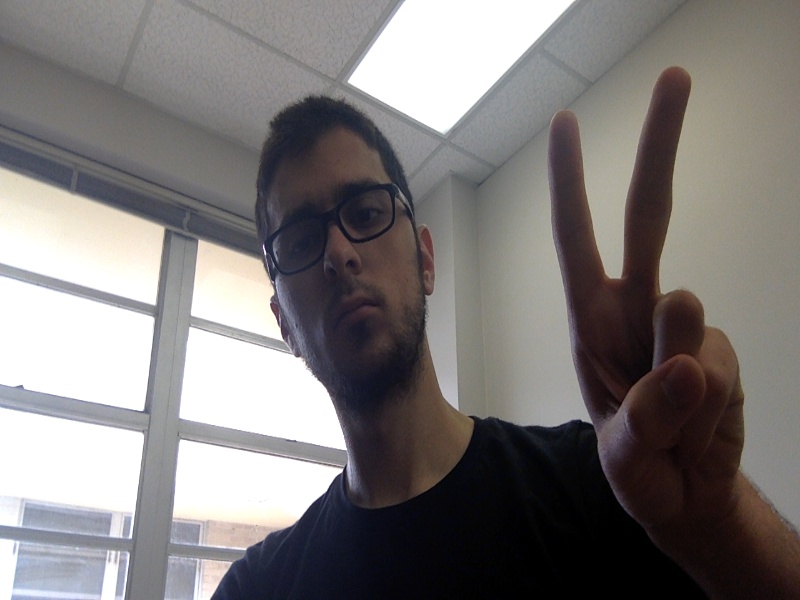2-hand: (549, 67, 743, 518)
